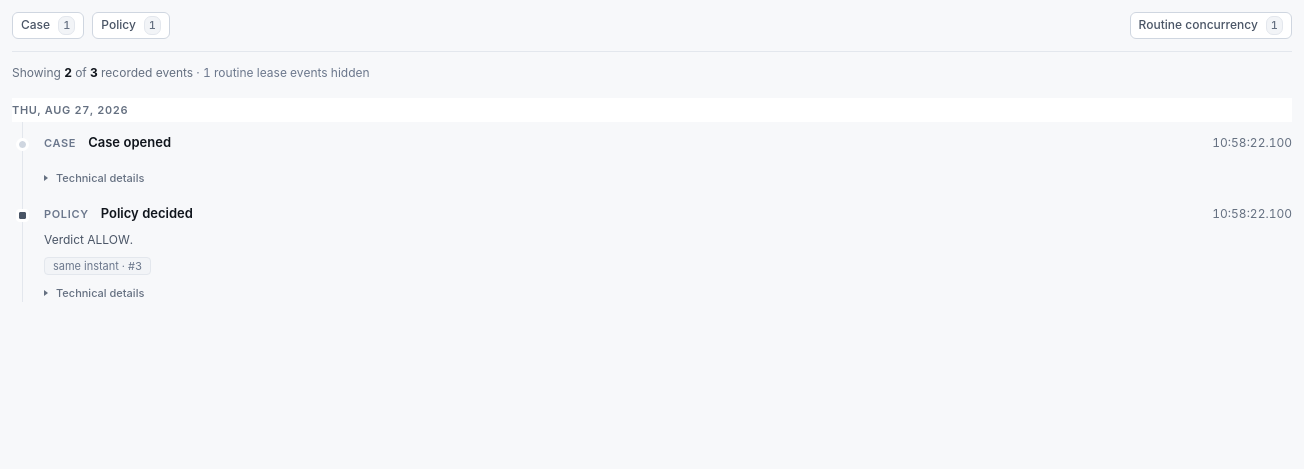
Scenario: case audit timeline › numbers events by their place in the full record, not the filtered view
Click the button "Policy 1": {"x": 131, "y": 25} left=92, top=12, right=170, bottom=38
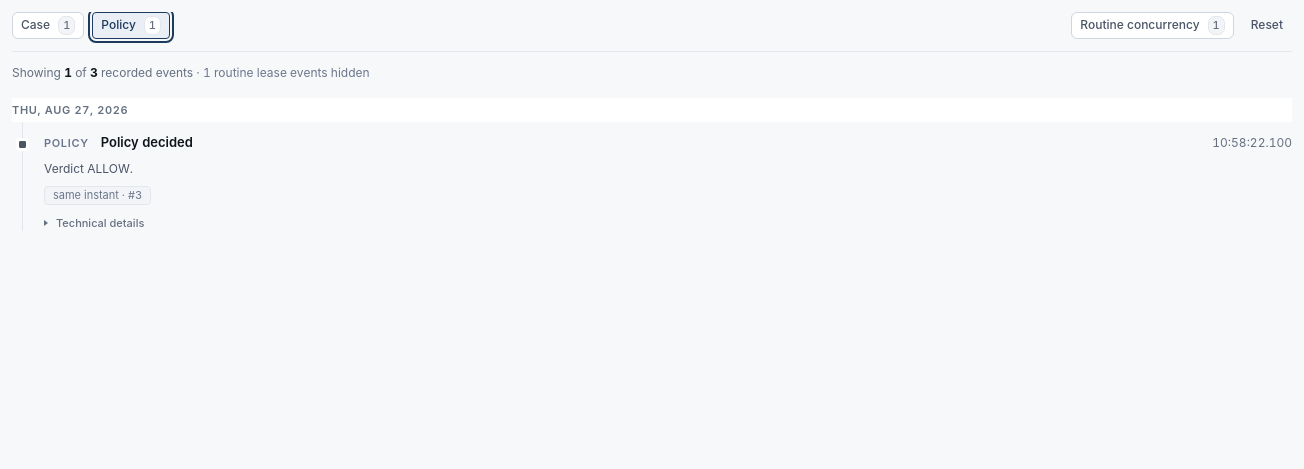
Click the button "Technical details": {"x": 94, "y": 223} left=44, top=212, right=144, bottom=233
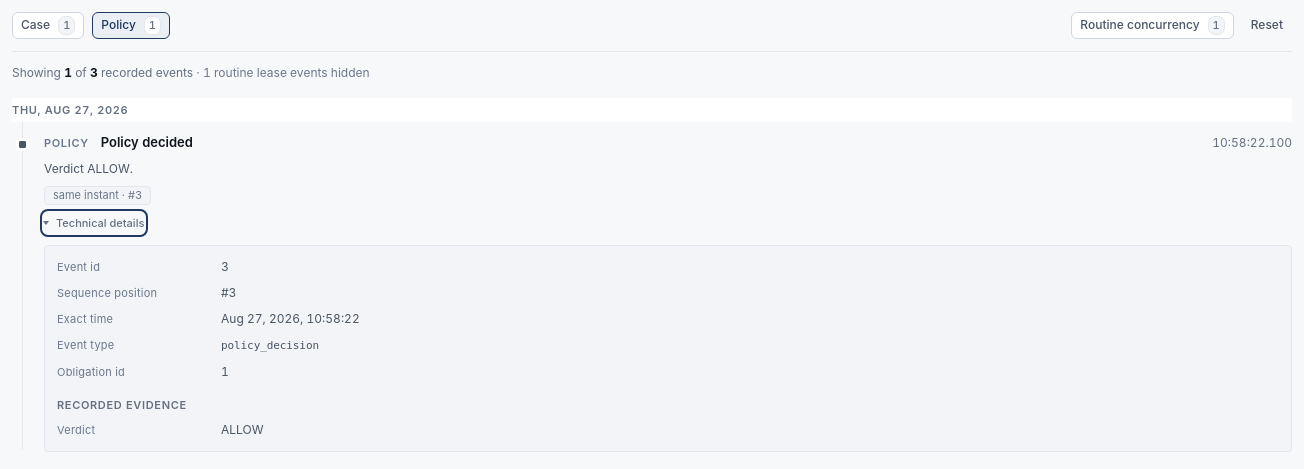
expect the text "#3" is shown: met, box left=221, top=285, right=236, bottom=300
